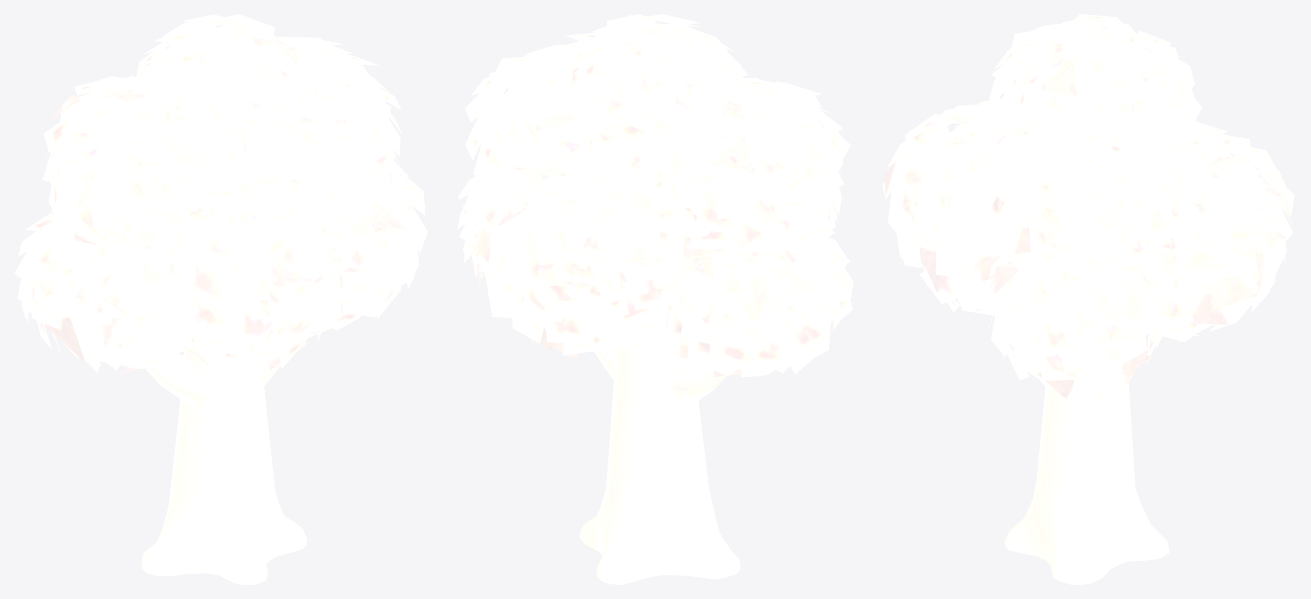
File: arvore-outono.glb
3 renders of one model, left to right at view 1: azimuth 30°, elevation 25°; view 2: azimuth 150°, elevation 25°; view 3: azimuth 270°, elevation 25°, orthographic. The views are drawn at different scales.
Visible parts, largest first — view 1: mesh_node; view 2: mesh_node; view 3: mesh_node.
Part boxes in pixels (bbox=[...]): mesh_node: bbox=[14, 14, 427, 584]; mesh_node: bbox=[457, 14, 853, 584]; mesh_node: bbox=[882, 14, 1294, 584].
Size of the model in its own units: 0.7578 by 1 by 0.7227.
Materials: 1 (1 with a texture image).
